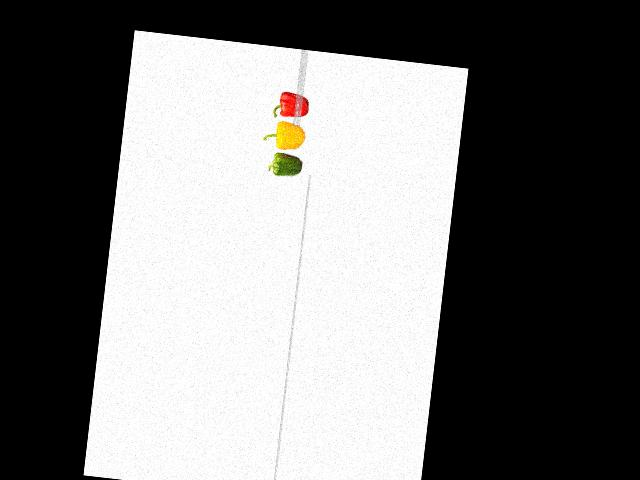bell_pepper: (262, 151, 305, 181)
